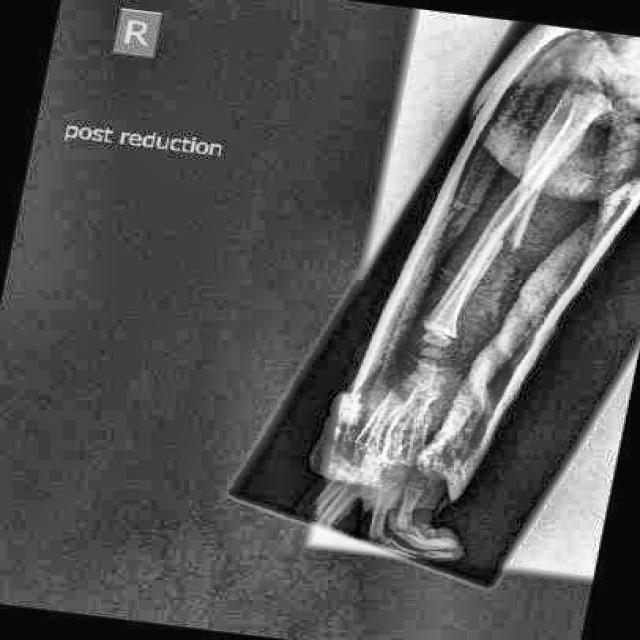forearm fracture: (451, 203, 559, 277)
